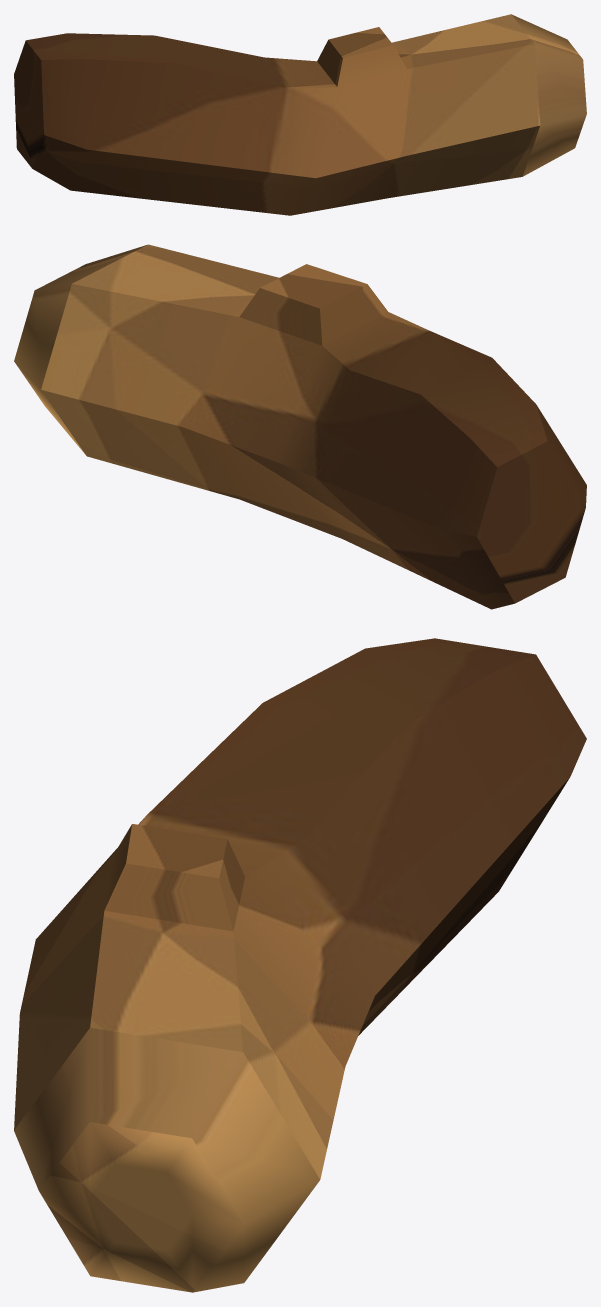
The model's file is wood2.fbx.
3 renders of one model, top to bottom at view 1: azimuth 30°, elevation 25°; view 2: azimuth 150°, elevation 25°; view 3: azimuth 270°, elevation 25°, orthographic. The views are drawn at different scales.
Parts seen in each view (by area): view 1: wood2; view 2: wood2; view 3: wood2.
Boxes of the visible parts, box(x1,y1,x2,y2) form: wood2: box(14, 14, 586, 215); wood2: box(14, 244, 586, 609); wood2: box(14, 638, 586, 1292).
Bounding box in the file's own units: 1.06 × 0.3362 × 0.5921.
